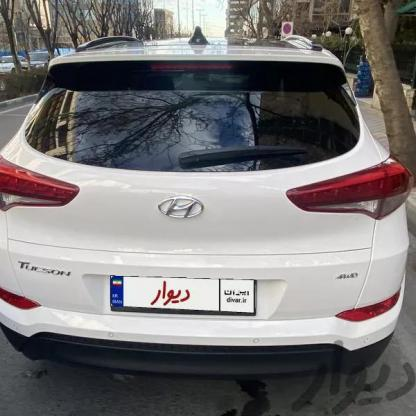Car: (0, 0, 414, 359)
